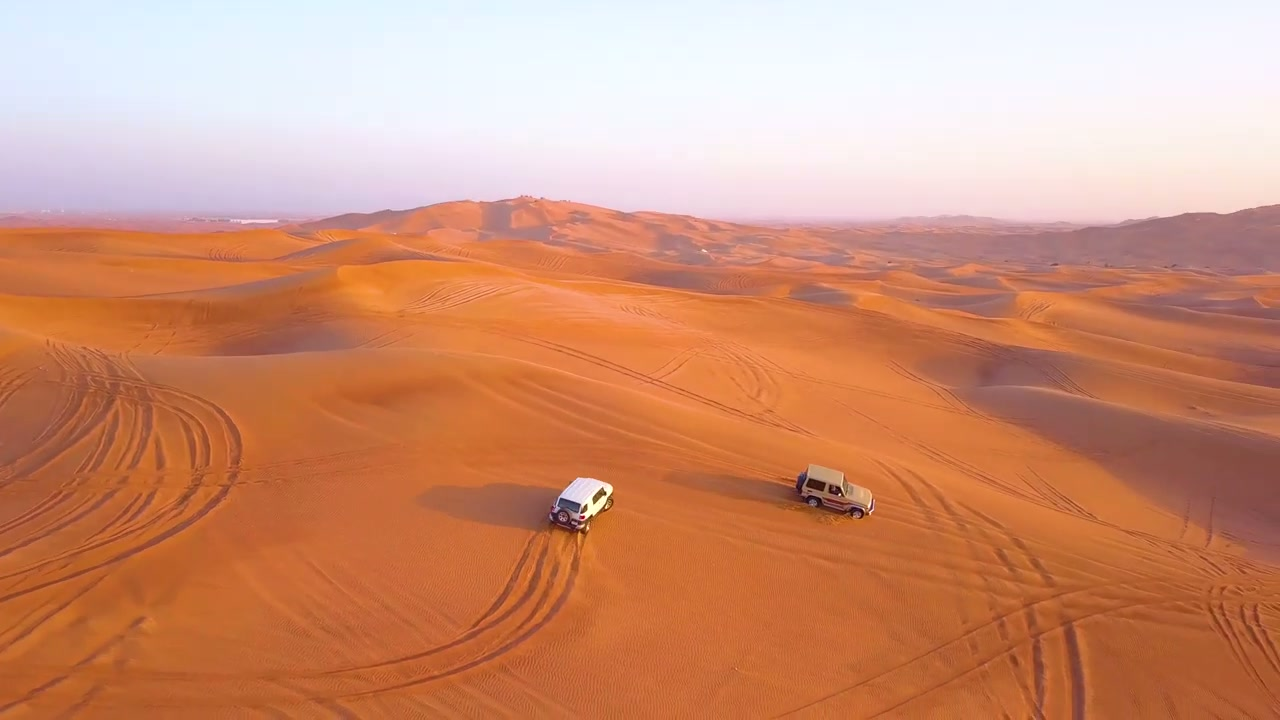vehicle_track: (120, 528, 583, 708), (0, 342, 241, 656), (833, 398, 1247, 575), (0, 344, 241, 602), (774, 578, 1186, 718), (326, 529, 582, 697), (480, 328, 811, 434), (832, 398, 1046, 505), (904, 469, 1058, 590), (0, 341, 115, 486), (0, 340, 113, 484), (877, 463, 1015, 575), (0, 616, 146, 714), (760, 356, 972, 416), (930, 328, 1096, 398), (1204, 582, 1279, 706), (712, 341, 811, 434), (871, 458, 978, 542), (1106, 362, 1279, 409), (234, 443, 423, 486), (888, 360, 992, 421), (713, 340, 779, 411), (1020, 465, 1096, 519), (872, 458, 935, 523), (403, 282, 517, 312), (1022, 358, 1096, 398), (1024, 605, 1048, 719), (649, 343, 711, 380), (0, 365, 35, 410), (356, 325, 418, 348), (617, 302, 678, 324), (1017, 300, 1052, 323), (208, 243, 246, 262), (535, 252, 567, 272), (1204, 496, 1215, 548)
